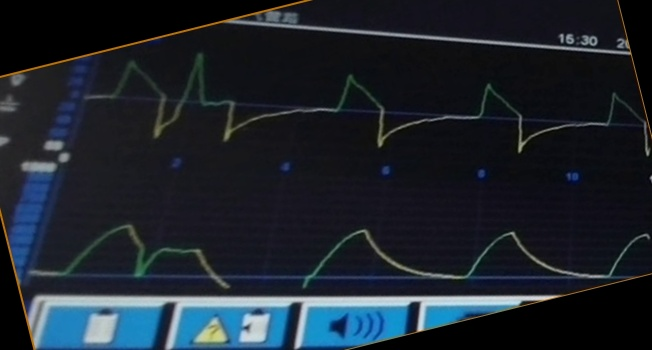Double_Triggering Flow: (82, 52, 614, 159)
Double_Triggering Volume: (30, 222, 614, 287)
